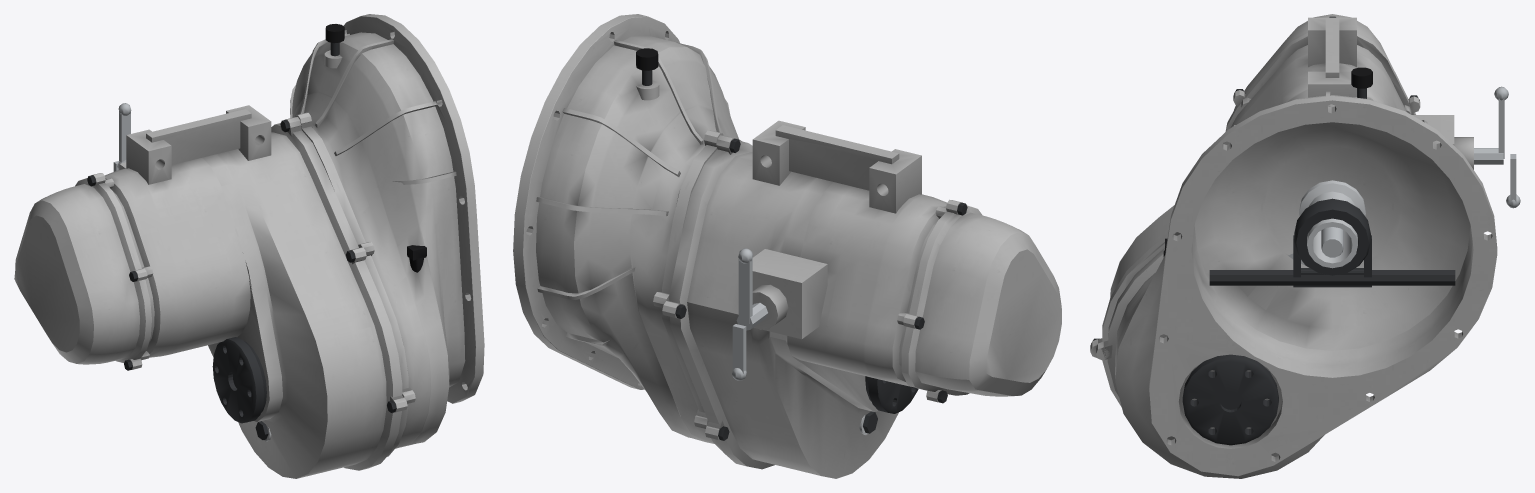
Rendered from gearbox-lo-v1.glb.
3 views of the same model, side by side, from view 1: azimuth 30°, elevation 25°; view 2: azimuth 150°, elevation 25°; view 3: azimuth 270°, elevation 25° (orthographic). The views are drawn at different scales.
Visible parts, largest first — view 1: case_gear_geo, case_clutch_geo, end_cover_geo, flange_L_geo, selector_shaft_geo; view 2: case_gear_geo, case_clutch_geo, end_cover_geo, selector_shaft_geo, flange_L_geo, breather_geo; view 3: case_clutch_geo, case_gear_geo, release_bearing_geo, flange_R_geo, end_cover_geo, selector_shaft_geo, input_shaft, breather_geo.
Part boxes in pixels (x1,y1,x2,y2): case_gear_geo: [105, 105, 407, 478]; case_clutch_geo: [290, 14, 484, 456]; end_cover_geo: [14, 173, 151, 370]; flange_L_geo: [212, 337, 266, 423]; selector_shaft_geo: [113, 103, 131, 171]; case_gear_geo: [662, 120, 946, 478]; case_clutch_geo: [513, 14, 741, 450]; end_cover_geo: [901, 199, 1061, 403]; selector_shaft_geo: [732, 248, 767, 380]; flange_L_geo: [865, 376, 918, 413]; breather_geo: [636, 48, 658, 85]; case_clutch_geo: [1096, 91, 1497, 478]; case_gear_geo: [1090, 17, 1473, 407]; release_bearing_geo: [1209, 180, 1455, 287]; flange_R_geo: [1182, 354, 1278, 445]; end_cover_geo: [1225, 14, 1420, 131]; selector_shaft_geo: [1474, 86, 1520, 208]; input_shaft: [1321, 227, 1343, 257]; breather_geo: [1351, 67, 1372, 98].
Size of the model in its own units: 0.47 by 0.4698 by 0.4381.
Materials: 11 (1 with a texture image).
